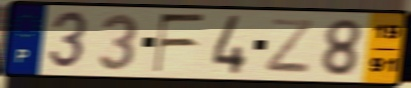3: (44, 9, 90, 73), (96, 10, 140, 73)
4: (211, 13, 248, 78)
8: (320, 17, 365, 78)
F: (152, 12, 208, 75)
Z: (263, 17, 316, 76)
